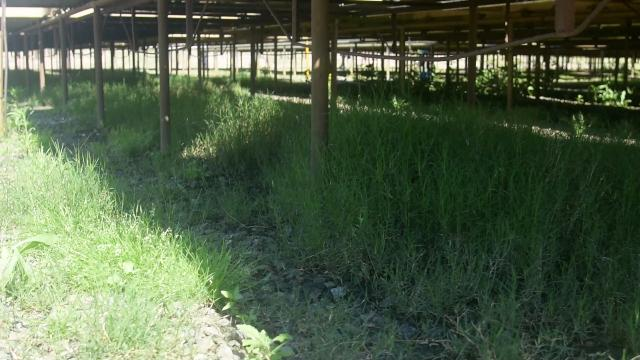MalezaMontesDelPlata: (538, 120, 640, 356), (445, 106, 536, 331), (65, 242, 238, 360), (340, 103, 436, 286), (4, 179, 119, 258), (226, 107, 305, 220), (172, 85, 231, 175), (0, 227, 67, 293), (106, 81, 160, 149), (1, 100, 35, 177)
